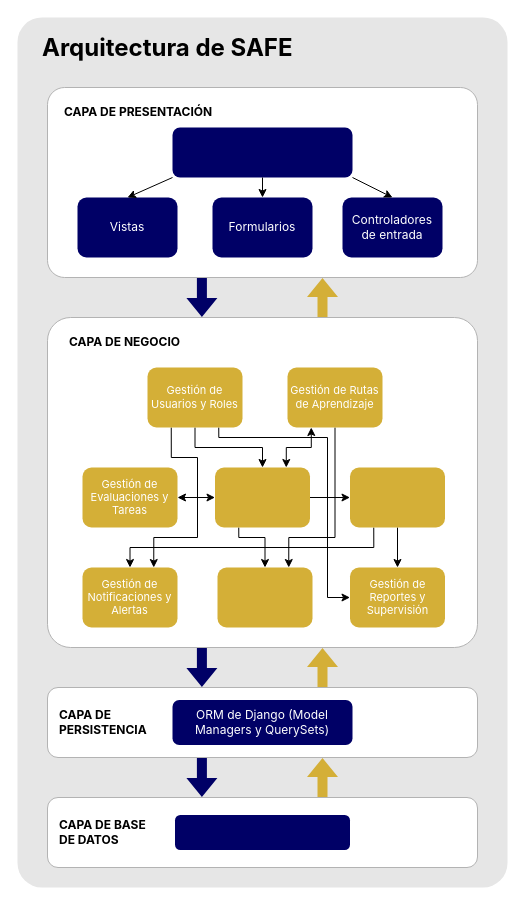
This 524x904 diagram has some shape labels left out. The centre of each missing label's shape, as x and y in pixels:
Base de Datos PostgreSQL: (262,832)
Gestión de Búsqueda y Suscripción: (264,597)
Gestión de Cursos y Contenidos: (262,497)
Gestión de Progreso y Certificación: (397,497)
Interfaz Web Django Templates + HTMX: (262,152)
